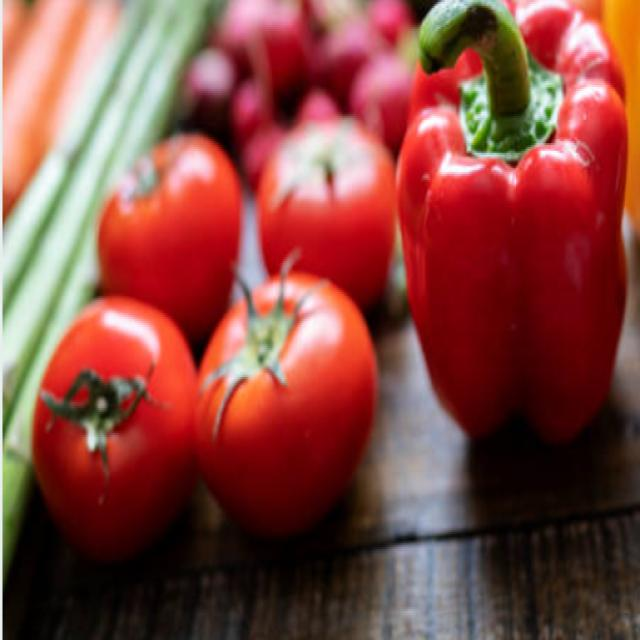Tomato: (201, 292, 392, 528), (27, 299, 197, 556)
